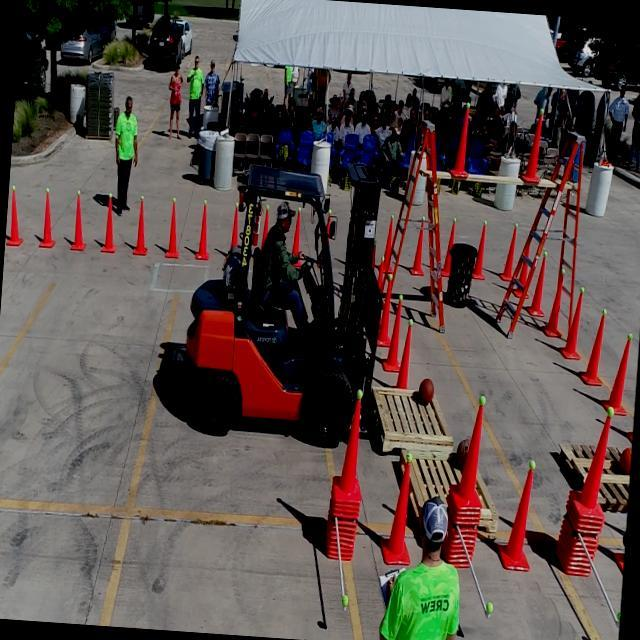person: (182, 156, 390, 442), (381, 487, 468, 640), (109, 90, 144, 202), (185, 51, 205, 136), (166, 62, 184, 134), (606, 86, 628, 144), (356, 111, 371, 135), (340, 114, 354, 135)
